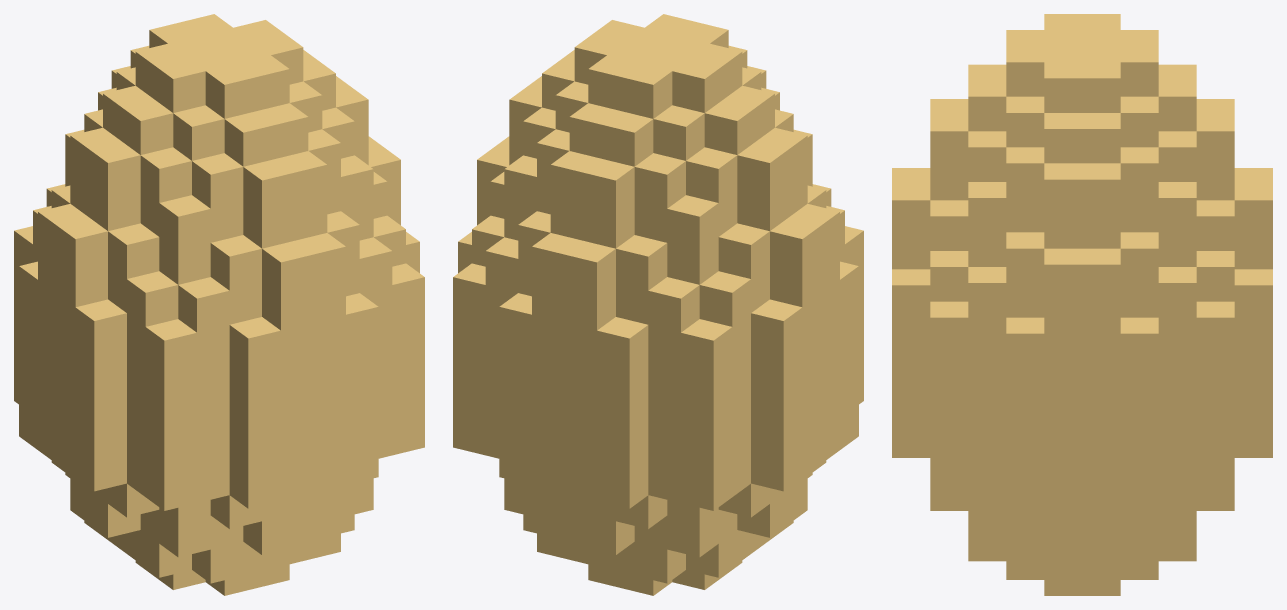
The model's file is Egges-single.fbx.
3 renders of one model, left to right at view 1: azimuth 30°, elevation 25°; view 2: azimuth 150°, elevation 25°; view 3: azimuth 270°, elevation 25°, orthographic.
Parts seen in each view (by area): view 1: Polygon; view 2: Polygon; view 3: Polygon.
Part boxes in pixels (x1,y1,x2,y2): Polygon: (14, 14, 424, 595); Polygon: (453, 14, 863, 595); Polygon: (892, 14, 1272, 595).
Size of the model in its own units: 1 by 1.5 by 1.
Materials: 1 (1 with a texture image).
